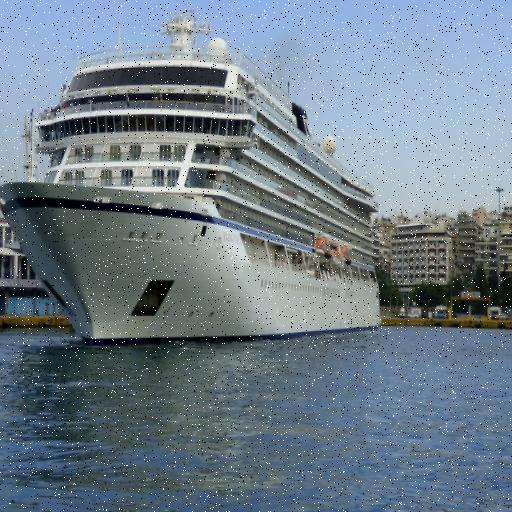cruises: (1, 2, 388, 360)
